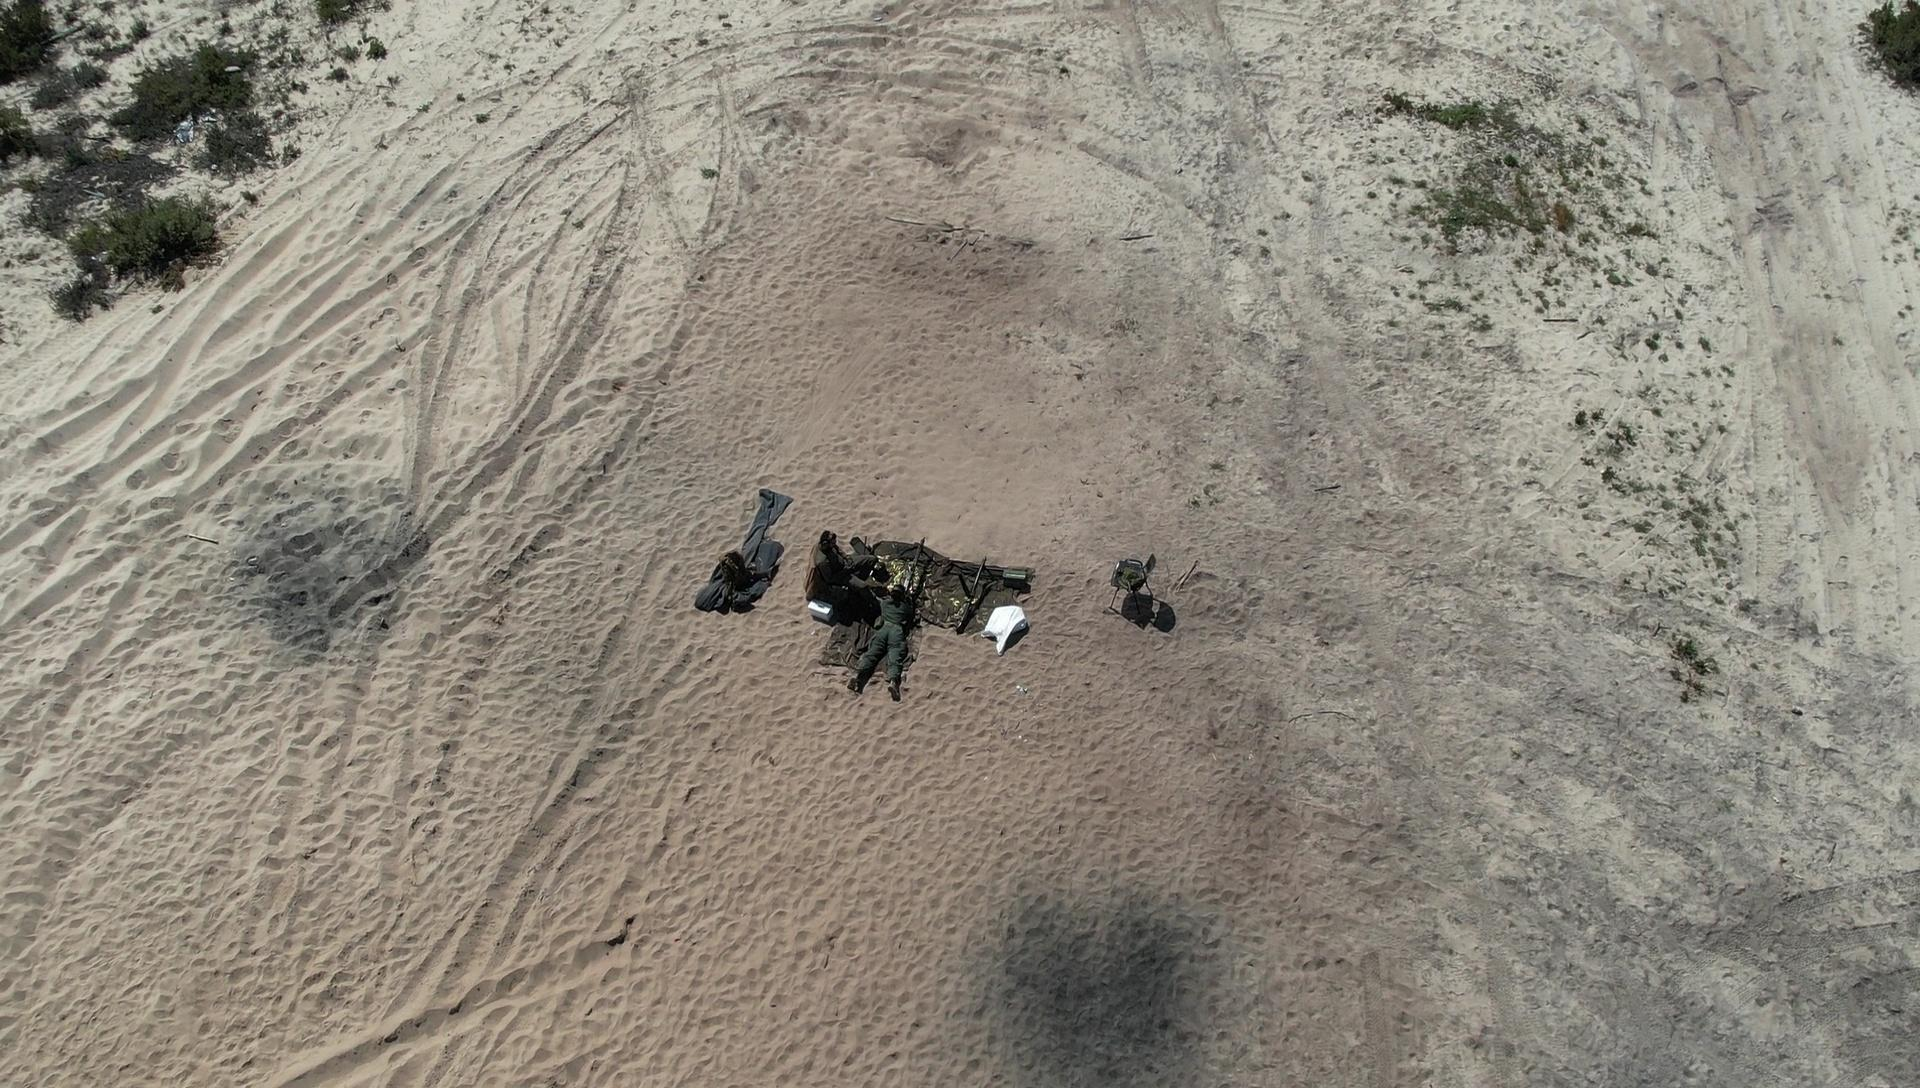Soldier: (856, 570, 921, 693), (829, 535, 894, 603)
